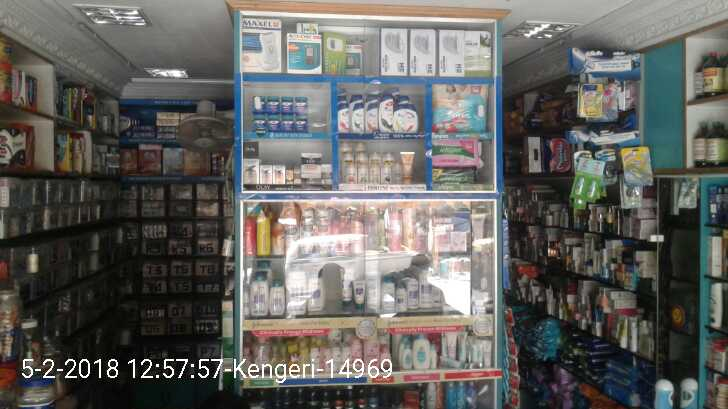beauty: (394, 100, 420, 136), (430, 167, 476, 183), (335, 149, 356, 184), (376, 96, 395, 133), (300, 152, 322, 180), (382, 152, 400, 185), (368, 150, 382, 186), (355, 147, 368, 185), (351, 101, 364, 132), (402, 151, 415, 182), (243, 159, 259, 184), (337, 101, 349, 132), (259, 162, 273, 186), (275, 161, 286, 187), (367, 103, 376, 133)
pharmacy: (432, 85, 487, 130), (432, 141, 479, 165), (295, 92, 308, 117), (249, 94, 264, 114), (264, 96, 279, 115), (252, 115, 266, 135), (279, 95, 292, 115), (266, 116, 281, 133), (280, 116, 294, 133), (294, 117, 308, 132)
